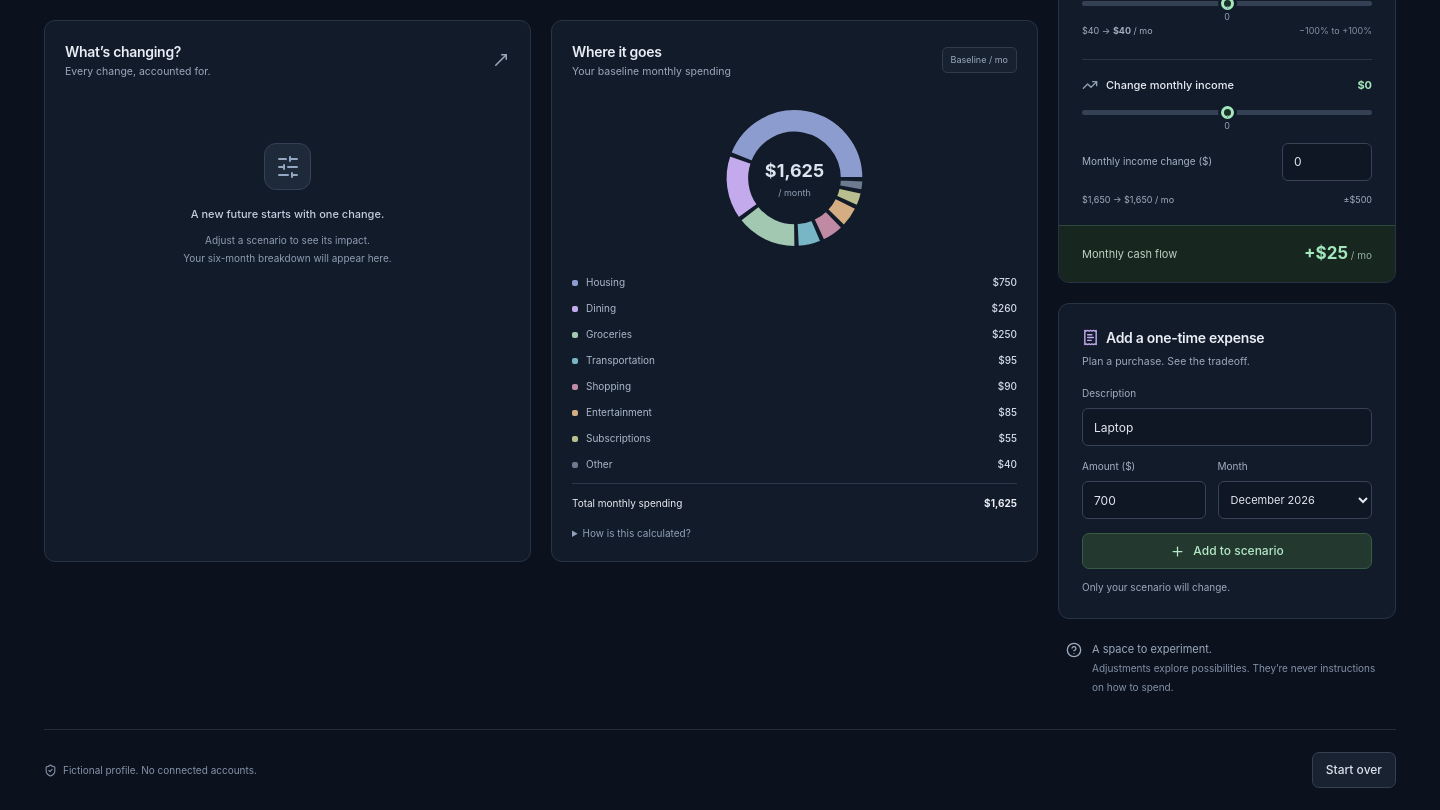
Test: setup and editable profiles › starts over only after confirmation and removes the saved setup
(page scrolled)
Click the button "Start over": (1354, 770) [1312, 752, 1396, 788]
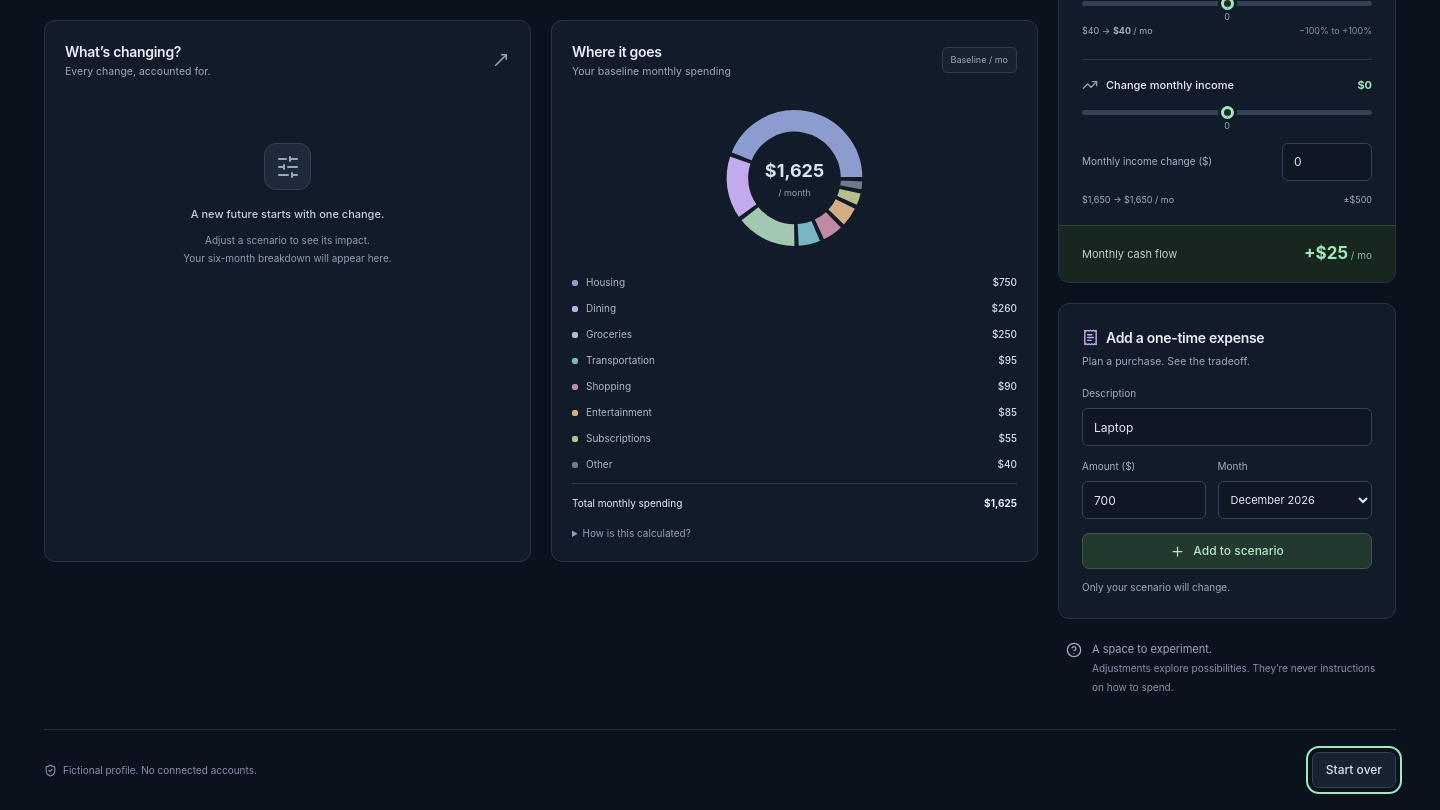
Click the button "Start over": (1354, 770) [1312, 752, 1396, 788]
(page scrolled)
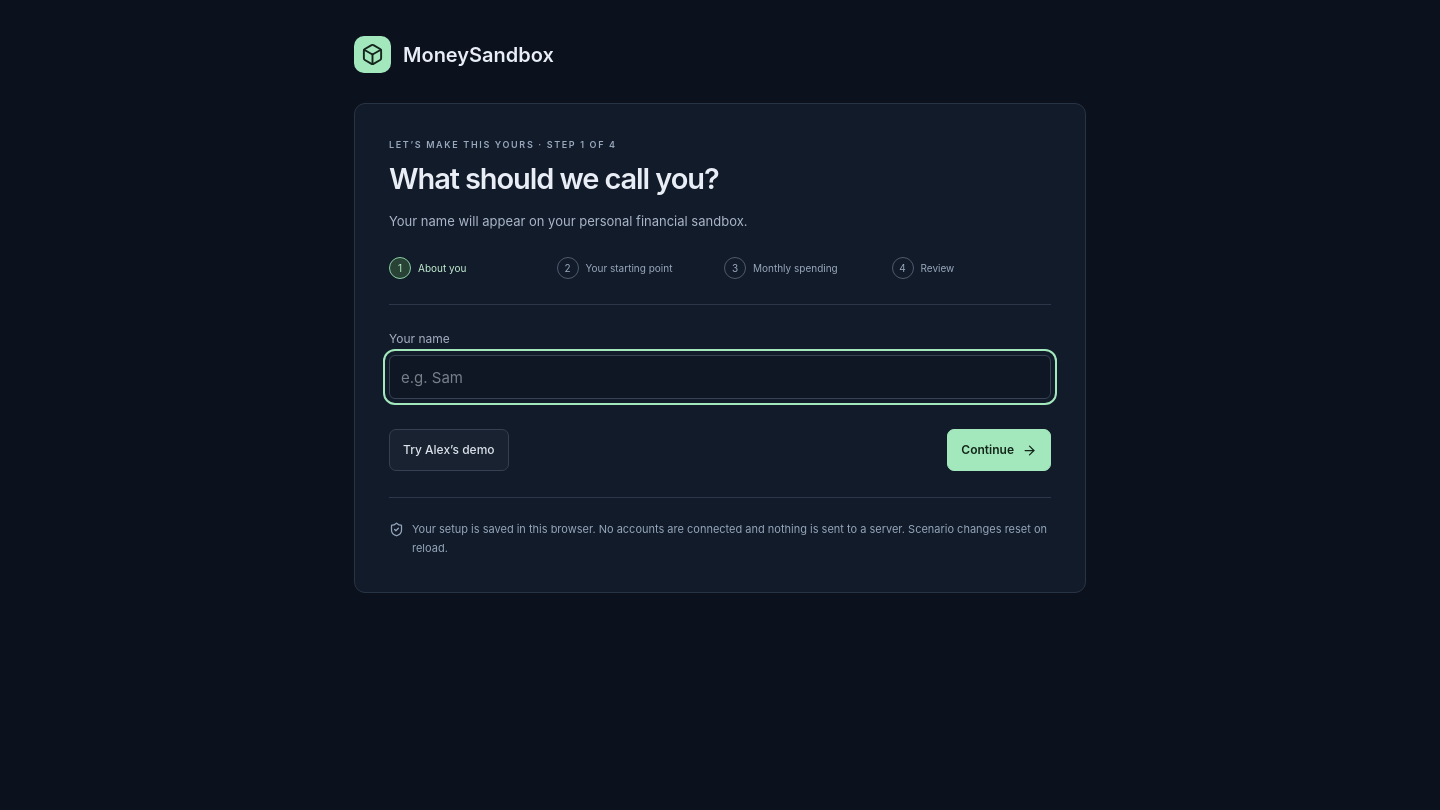
Check: the field labelled "Your name" is shown, box [389, 355, 1051, 399]
